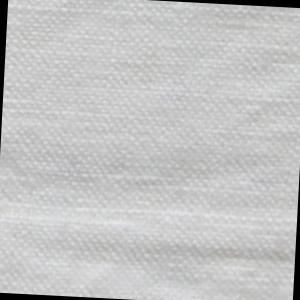Wrinkle: (91, 230, 296, 278)
